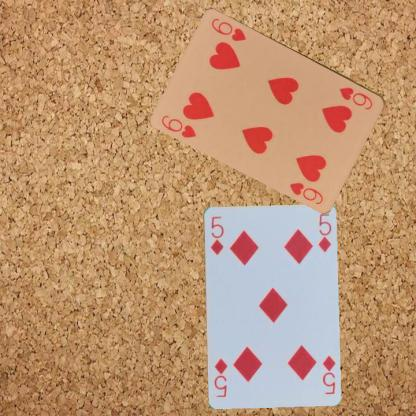5d: (207, 213, 225, 256), (320, 352, 336, 396)
6h: (159, 112, 198, 139), (337, 84, 374, 111)
